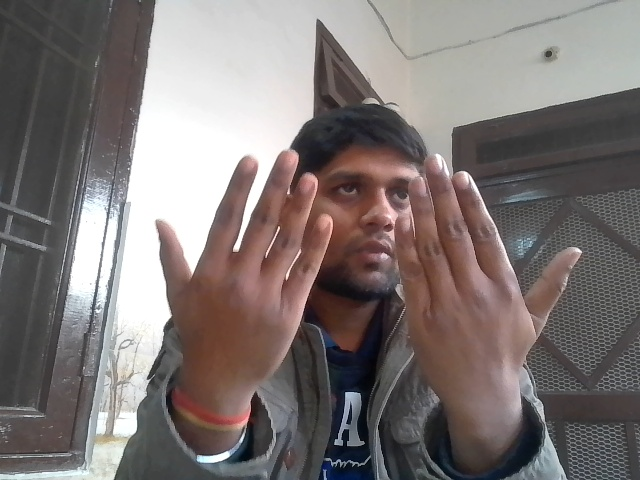ThankYou: (133, 129, 590, 431)
